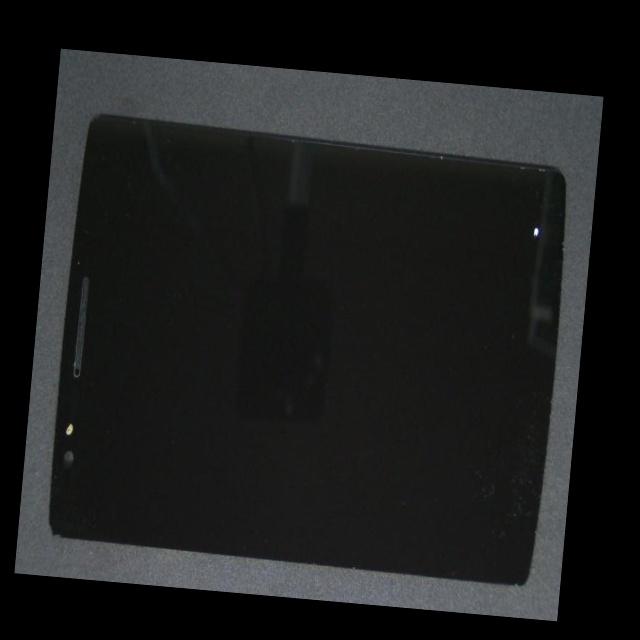stain: (298, 121, 599, 284), (46, 223, 105, 578)
